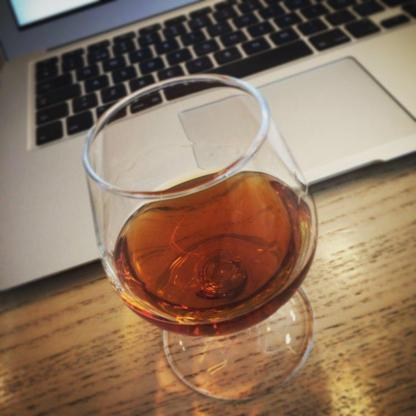board: (0, 0, 416, 298)
